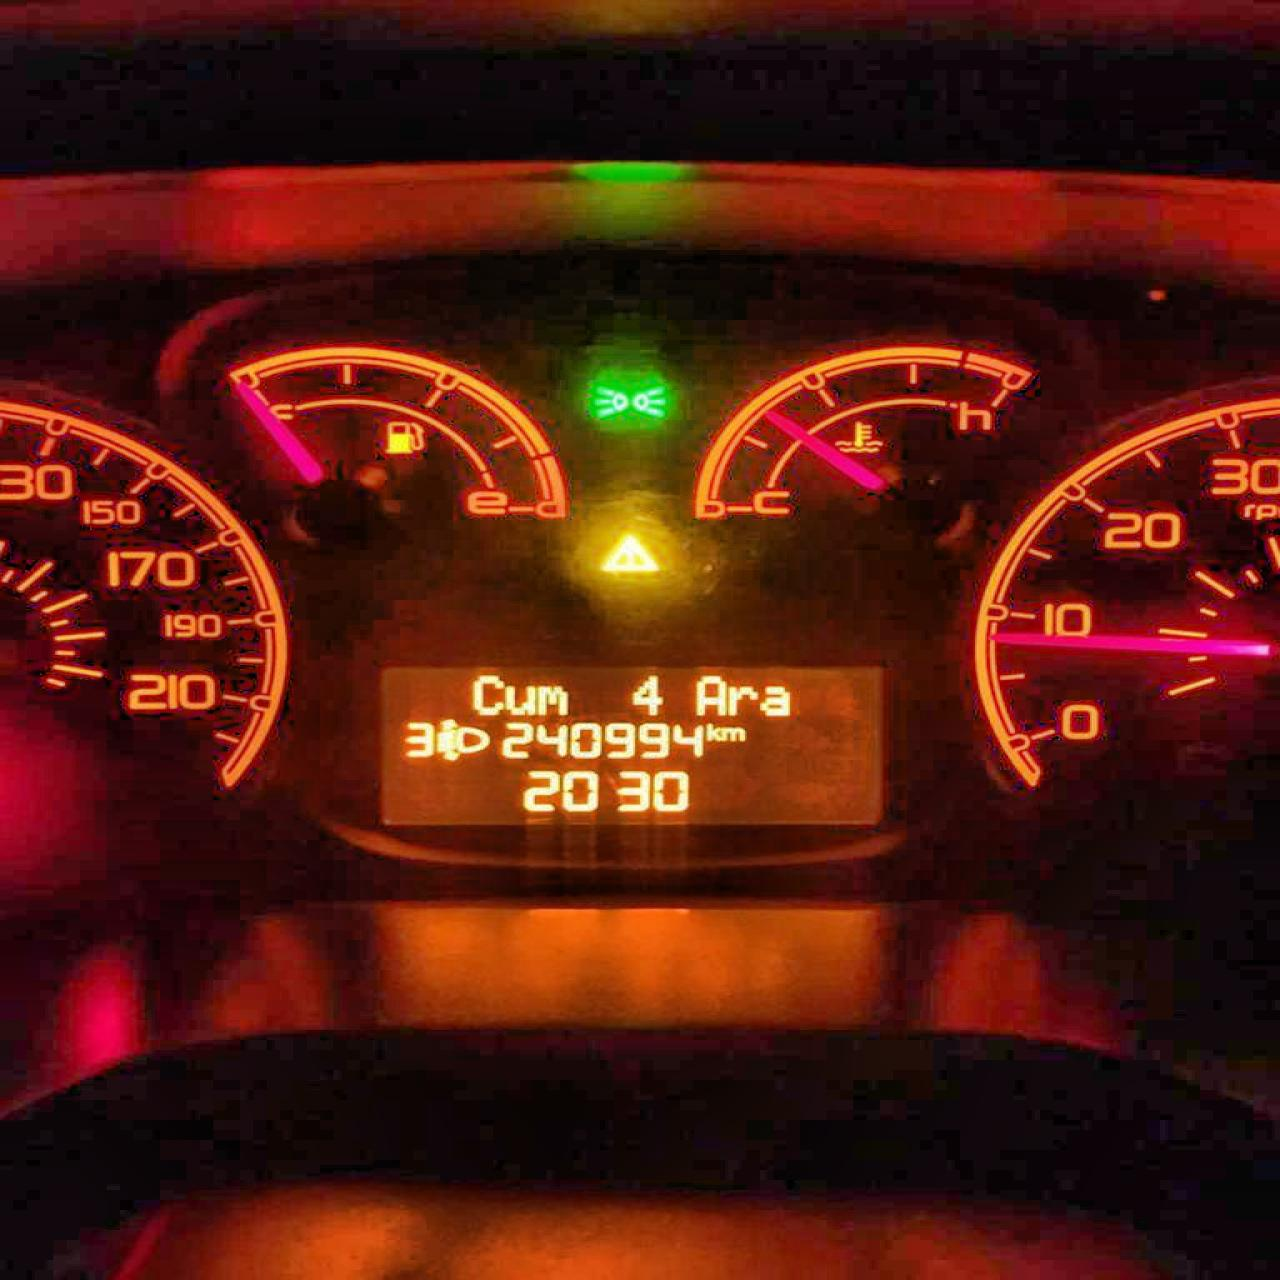0: (651, 768, 690, 812), (560, 767, 598, 813), (567, 719, 600, 760)
2: (518, 768, 560, 812), (498, 720, 533, 760)
3: (608, 768, 649, 813), (396, 719, 434, 760)
4: (627, 673, 666, 716), (533, 720, 568, 757), (670, 720, 702, 757)
9: (601, 719, 635, 760), (636, 719, 670, 760)
X: (690, 672, 727, 717), (468, 670, 502, 716), (502, 681, 537, 717), (758, 681, 791, 717), (536, 680, 567, 717), (726, 682, 757, 716), (720, 722, 745, 742), (703, 720, 720, 742)
odometer: (368, 655, 888, 836)
